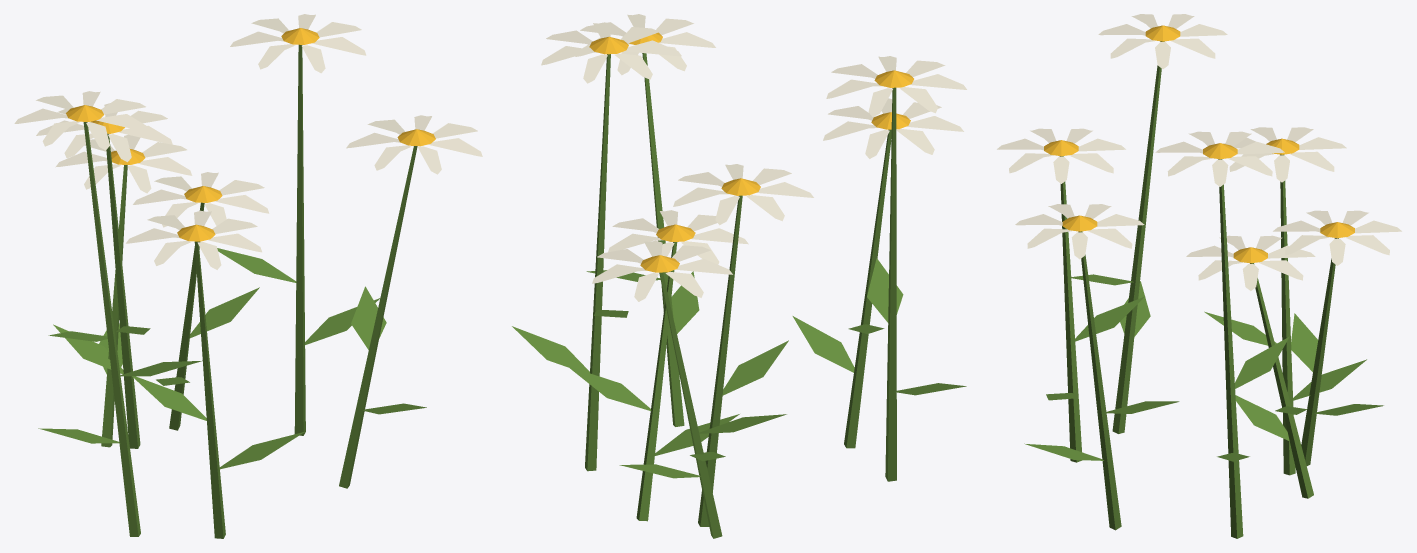
The model's file is Wildflower_LOD2.fbx.
3 renders of one model, left to right at view 1: azimuth 30°, elevation 25°; view 2: azimuth 150°, elevation 25°; view 3: azimuth 270°, elevation 25°, orthographic. The views are drawn at different scales.
Visible parts, largest first — view 1: Wildflower_LOD2; view 2: Wildflower_LOD2; view 3: Wildflower_LOD2.
Part boxes in pixels (x1,y1,x2,y2): Wildflower_LOD2: (14, 14, 482, 538); Wildflower_LOD2: (512, 14, 966, 538); Wildflower_LOD2: (997, 14, 1401, 538).
Size of the model in its own units: 65.67 by 64.71 by 60.25.
